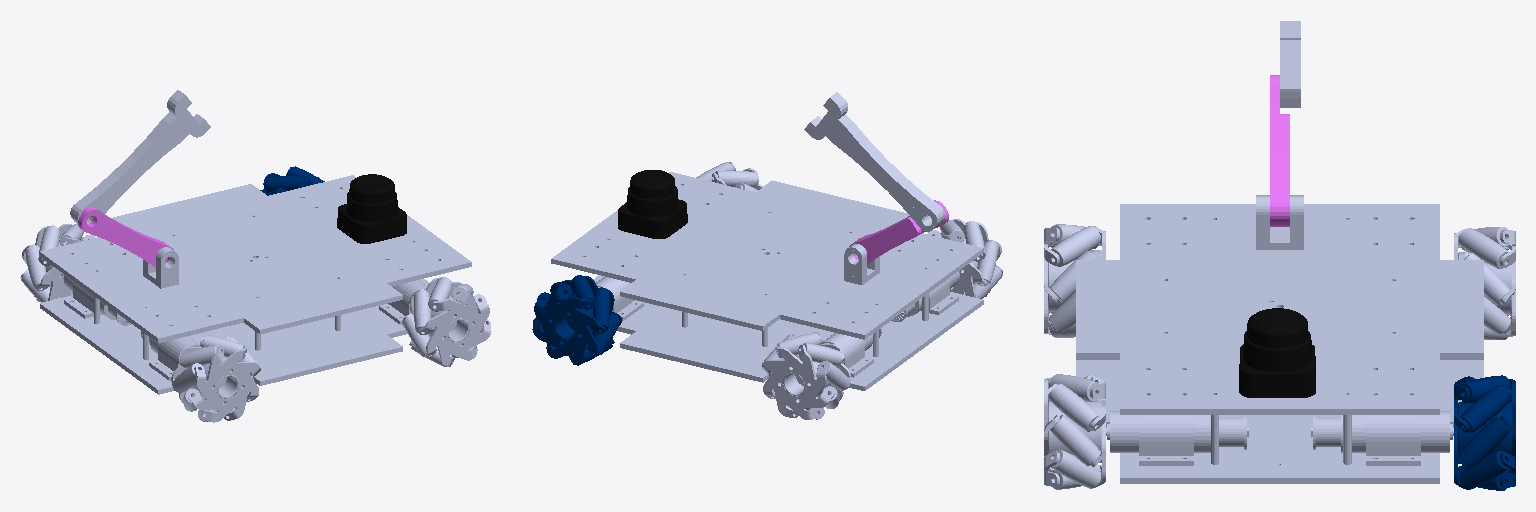
The robot description file, URDF, robot "meca":
<?xml version="1.0" ?>
<!-- This URDF was automatically created by SolidWorks to URDF Exporter! Originally created by [author] ([email redacted]) 
     Commit Version: 1.6.0-4-g7f85cfe  Build Version: 1.6.7995.38578
     For more information, please see http://wiki.ros.org/sw_urdf_exporter -->
<robot name="meca">
  <link name="base_link">
    <inertial>
      <origin xyz="-0.0012337 1.0003E-06 0.027856" rpy="0 0 0" />
      <mass value="1.2237" />
      <inertia ixx="0.0053566" ixy="3.6093E-10" ixz="6.2608E-22" iyy="0.0084415" iyz="6.2819E-22" izz="0.013752" />
    </inertial>
    <visual>
      <origin xyz="0 0 0" rpy="0 0 0" />
      <geometry>
        <mesh filename="package://meca/meshes/base_link.STL" />
      </geometry>
      <material name="">
        <color rgba="0.79216 0.81961 0.93333 1" />
      </material>
    </visual>
    <collision>
      <origin xyz="0 0 0" rpy="0 0 0" />
      <geometry>
        <mesh filename="package://meca/meshes/base_link.STL" />
      </geometry>
    </collision>
  </link>
  <link name="link_left_forward">
    <inertial>
      <origin xyz="1.0435E-06 4.8329E-05 -0.0023476" rpy="0 0 0" />
      <mass value="0.13253" />
      <inertia ixx="2.8353E-05" ixy="-4.1241E-08" ixz="-4.6777E-08" iyy="2.8355E-05" iyz="4.779E-08" izz="3.4561E-05" />
    </inertial>
    <visual>
      <origin xyz="0 0 0" rpy="0 0 0" />
      <geometry>
        <mesh filename="package://meca/meshes/link_left_forward.STL" />
      </geometry>
      <material name="">
        <color rgba="0 0.21176 0.46667 1" />
      </material>
    </visual>
    <collision>
      <origin xyz="0 0 0" rpy="0 0 0" />
      <geometry>
        <mesh filename="package://meca/meshes/link_left_forward.STL" />
      </geometry>
    </collision>
  </link>
  <joint name="joint_left_forward" type="continuous">
    <origin xyz="0.12762 0.14948 0.01867" rpy="-1.5708 0 0" />
    <parent link="base_link" />
    <child link="link_left_forward" />
    <axis xyz="0 0 1" />
  </joint>
  <link name="encoder_left_forward_link">
    <inertial>
      <origin xyz="0 -3.4694E-18 0.0012195" rpy="0 0 0" />
      <mass value="0.0011046" />
      <inertia ixx="4.6057E-08" ixy="-9.381E-13" ixz="-1.7536E-24" iyy="4.6073E-08" iyz="2.5318E-25" izz="9.0881E-08" />
    </inertial>
    <visual>
      <origin xyz="0 0 0" rpy="0 0 0" />
      <geometry>
        <mesh filename="package://meca/meshes/encoder_left_forward_link.STL" />
      </geometry>
      <material name="">
        <color rgba="0.79216 0.81961 0.93333 1" />
      </material>
    </visual>
    <collision>
      <origin xyz="0 0 0" rpy="0 0 0" />
      <geometry>
        <mesh filename="package://meca/meshes/encoder_left_forward_link.STL" />
      </geometry>
    </collision>
  </link>
  <joint name="encoder_left_forward_joint" type="fixed">
    <origin xyz="0.000879827951730972 -0.00142956283466865 -0.12605" rpy="0 0 0" />
    <parent link="link_left_forward" />
    <child link="encoder_left_forward_link" />
    <axis xyz="0 0 0" />
  </joint>
  <link name="link_left_back">
    <inertial>
      <origin xyz="4.3774E-05 2.0509E-05 -0.0023476" rpy="0 0 0" />
      <mass value="0.13253" />
      <inertia ixx="2.8322E-05" ixy="2.5704E-08" ixz="2.2072E-08" iyy="2.8387E-05" iyz="6.3125E-08" izz="3.4561E-05" />
    </inertial>
    <visual>
      <origin xyz="0 0 0" rpy="0 0 0" />
      <geometry>
        <mesh filename="package://meca/meshes/link_left_back.STL" />
      </geometry>
      <material name="">
        <color rgba="0.79216 0.81961 0.93333 1" />
      </material>
    </visual>
    <collision>
      <origin xyz="0 0 0" rpy="0 0 0" />
      <geometry>
        <mesh filename="package://meca/meshes/link_left_back.STL" />
      </geometry>
    </collision>
  </link>
  <joint name="joint_left_back" type="continuous">
    <origin xyz="-0.12797 0.14948 0.018587" rpy="-1.5708 0 0" />
    <parent link="base_link" />
    <child link="link_left_back" />
    <axis xyz="0 0 1" />
  </joint>
  <link name="encoder_left_back_link">
    <inertial>
      <origin xyz="0 6.93889390390723E-18 0.00121951468354635" rpy="0 0 0" />
      <mass value="0.00110455234746961" />
      <inertia ixx="4.60573417540729E-08" ixy="9.38099743416329E-13" ixz="-1.86169766614336E-24" iyy="4.60729731271229E-08" iyz="-9.59486697287092E-25" izz="9.08807746771234E-08" />
    </inertial>
    <visual>
      <origin xyz="0 0 0" rpy="0 0 0" />
      <geometry>
        <mesh filename="package://meca/meshes/encoder_left_back_link.STL" />
      </geometry>
      <material name="">
        <color rgba="0.792156862745098 0.819607843137255 0.933333333333333 1" />
      </material>
    </visual>
    <collision>
      <origin xyz="0 0 0" rpy="0 0 0" />
      <geometry>
        <mesh filename="package://meca/meshes/encoder_left_back_link.STL" />
      </geometry>
    </collision>
  </link>
  <joint name="encoder_left_back_joint" type="fixed">
    <origin xyz="-0.000744846301707347 -0.00151335080252251 -0.12605" rpy="0 0 0" />
    <parent link="link_left_back" />
    <child link="encoder_left_back_link" />
    <axis xyz="0 0 0" />
  </joint>
  <link name="link_right_back">
    <inertial>
      <origin xyz="1.0435E-06 -4.8329E-05 0.0023476" rpy="0 0 0" />
      <mass value="0.13253" />
      <inertia ixx="2.8353E-05" ixy="4.1241E-08" ixz="4.6777E-08" iyy="2.8355E-05" iyz="4.779E-08" izz="3.4561E-05" />
    </inertial>
    <visual>
      <origin xyz="0 0 0" rpy="0 0 0" />
      <geometry>
        <mesh filename="package://meca/meshes/link_right_back.STL" />
      </geometry>
      <material name="">
        <color rgba="0.79216 0.81961 0.93333 1" />
      </material>
    </visual>
    <collision>
      <origin xyz="0 0 0" rpy="0 0 0" />
      <geometry>
        <mesh filename="package://meca/meshes/link_right_back.STL" />
      </geometry>
    </collision>
  </link>
  <joint name="joint_right_back" type="continuous">
    <origin xyz="-0.12884 -0.14948 0.019988" rpy="-1.5708 0 0" />
    <parent link="base_link" />
    <child link="link_right_back" />
    <axis xyz="0 0 1" />
  </joint>
  <link name="encoder_right_back_link">
    <inertial>
      <origin xyz="0 0 -0.0012195" rpy="0 0 0" />
      <mass value="0.0011046" />
      <inertia ixx="4.6057E-08" ixy="9.381E-13" ixz="-1.6658E-23" iyy="4.6073E-08" iyz="2.8857E-25" izz="9.0881E-08" />
    </inertial>
    <visual>
      <origin xyz="0 0 0" rpy="0 0 0" />
      <geometry>
        <mesh filename="package://meca/meshes/encoder_right_back_link.STL" />
      </geometry>
      <material name="">
        <color rgba="0.79216 0.81961 0.93333 1" />
      </material>
    </visual>
    <collision>
      <origin xyz="0 0 0" rpy="0 0 0" />
      <geometry>
        <mesh filename="package://meca/meshes/encoder_right_back_link.STL" />
      </geometry>
    </collision>
  </link>
  <joint name="encoder_right_back_joint" type="fixed">
    <origin xyz="0.000125240091175149 -0.00011164957998884 0.12605" rpy="0 0 0" />
    <parent link="link_right_back" />
    <child link="encoder_right_back_link" />
    <axis xyz="0 0 0" />
  </joint>
  <link name="link_right_forward">
    <inertial>
      <origin xyz="4.3774E-05 -2.0509E-05 0.0023476" rpy="0 0 0" />
      <mass value="0.13253" />
      <inertia ixx="2.8322E-05" ixy="-2.5704E-08" ixz="-2.2072E-08" iyy="2.8387E-05" iyz="6.3125E-08" izz="3.4561E-05" />
    </inertial>
    <visual>
      <origin xyz="0 0 0" rpy="0 0 0" />
      <geometry>
        <mesh filename="package://meca/meshes/link_right_forward.STL" />
      </geometry>
      <material name="">
        <color rgba="0.79216 0.81961 0.93333 1" />
      </material>
    </visual>
    <collision>
      <origin xyz="0 0 0" rpy="0 0 0" />
      <geometry>
        <mesh filename="package://meca/meshes/link_right_forward.STL" />
      </geometry>
    </collision>
  </link>
  <joint name="joint_right_forward" type="continuous">
    <origin xyz="0.12849 -0.14948 0.020072" rpy="-1.5708 0 0" />
    <parent link="base_link" />
    <child link="link_right_forward" />
    <axis xyz="0 0 1" />
  </joint>
  <link name="encoder_right_forward_link">
    <inertial>
      <origin xyz="0 6.9389E-18 3.0485E-05" rpy="0 0 0" />
      <mass value="0.0011046" />
      <inertia ixx="4.6057E-08" ixy="-9.381E-13" ixz="1.0944E-23" iyy="4.6073E-08" iyz="1.1236E-24" izz="9.0881E-08" />
    </inertial>
    <visual>
      <origin xyz="0 0 0" rpy="0 0 0" />
      <geometry>
        <mesh filename="package://meca/meshes/encoder_right_forward_link.STL" />
      </geometry>
      <material name="">
        <color rgba="0.79216 0.81961 0.93333 1" />
      </material>
    </visual>
    <collision>
      <origin xyz="0 0 0" rpy="0 0 0" />
      <geometry>
        <mesh filename="package://meca/meshes/encoder_right_forward_link.STL" />
      </geometry>
    </collision>
  </link>
  <joint name="encoder_right_forward_joint" type="fixed">
    <origin xyz="0 -2.78616121349856E-05 0.1248" rpy="0 0 0" />
    <parent link="link_right_forward" />
    <child link="encoder_right_forward_link" />
    <axis xyz="0 0 0" />
  </joint>
  <link name="link_lidar">
    <inertial>
      <origin xyz="-0.00020012 4.1715E-07 0.032146" rpy="0 0 0" />
      <mass value="0.0094944" />
      <inertia ixx="3.8153E-06" ixy="2.9012E-11" ixz="-8.0883E-10" iyy="3.8141E-06" iyz="-2.0759E-11" izz="4.9345E-06" />
    </inertial>
    <visual>
      <origin xyz="0 0 0" rpy="0 0 0" />
      <geometry>
        <mesh filename="package://meca/meshes/link_lidar.STL" />
      </geometry>
      <material name="">
        <color rgba="0.082353 0.082353 0.082353 1" />
      </material>
    </visual>
    <collision>
      <origin xyz="0 0 0" rpy="0 0 0" />
      <geometry>
        <mesh filename="package://meca/meshes/link_lidar.STL" />
      </geometry>
    </collision>
  </link>
  <joint name="joint_lidar" type="fixed">
    <origin xyz="0.12893 -0.0016914 0.0598" rpy="0 0 0" />
    <parent link="base_link" />
    <child link="link_lidar" />
    <axis xyz="0 0 0" />
  </joint>
  <link name="link_imu">
    <inertial>
      <origin xyz="-7.5244E-05 -0.0020556 -7.7593E-06" rpy="0 0 0" />
      <mass value="0.00054834" />
      <inertia ixx="8.6846E-09" ixy="-6.071E-11" ixz="4.4622E-11" iyy="1.9443E-08" iyz="-8.0543E-11" izz="2.6482E-08" />
    </inertial>
    <visual>
      <origin xyz="0 0 0" rpy="0 0 0" />
      <geometry>
        <mesh filename="package://meca/meshes/link_imu.STL" />
      </geometry>
      <material name="">
        <color rgba="0.79216 0.81961 0.93333 1" />
      </material>
    </visual>
    <collision>
      <origin xyz="0 0 0" rpy="0 0 0" />
      <geometry>
        <mesh filename="package://meca/meshes/link_imu.STL" />
      </geometry>
    </collision>
  </link>
  <joint name="joint_imu" type="fixed">
    <origin xyz="-8.8046E-05 -0.011773 0.02" rpy="0 0 0" />
    <parent link="base_link" />
    <child link="link_imu" />
    <axis xyz="0 0 0" />
  </joint>
  <link name="link_arm1">
    <inertial>
      <origin xyz="0 0 0" rpy="0 0 0" />
      <mass value="0" />
      <inertia ixx="0" ixy="0" ixz="0" iyy="0" iyz="0" izz="0" />
    </inertial>
    <visual>
      <origin xyz="0 0 0" rpy="0 0 0" />
      <geometry>
        <mesh filename="package://meca/meshes/link_arm1.STL" />
      </geometry>
      <material name="">
        <color rgba="0.93333 0.5 1 1" />
      </material>
    </visual>
    <collision>
      <origin xyz="0 0 0" rpy="0 0 0" />
      <geometry>
        <mesh filename="package://meca/meshes/link_arm1.STL" />
      </geometry>
    </collision>
  </link>
  <joint name="joint_arm1" type="continuous">
    <origin xyz="-0.10596 0.0075 0.086" rpy="-1.5708 0 0" />
    <parent link="base_link" />
    <child link="link_arm1" />
    <axis xyz="0 0 1" />
    <limit lower="-1.5707" upper="1.5707" effort="0" velocity="0" />
  </joint>
  <link name="link_arm2">
    <inertial>
      <origin xyz="0.066382 -0.046095 0.0075" rpy="0 0 0" />
      <mass value="0.050806" />
      <inertia ixx="4.2368E-05" ixy="5.3833E-05" ixz="-8.2018E-20" iyy="8.2512E-05" iyz="5.3173E-20" izz="0.00012297" />
    </inertial>
    <visual>
      <origin xyz="0 0 0" rpy="0 0 0" />
      <geometry>
        <mesh filename="package://meca/meshes/link_arm2.STL" />
      </geometry>
      <material name="">
        <color rgba="0.79216 0.81961 0.93333 1" />
      </material>
    </visual>
    <collision>
      <origin xyz="0 0 0" rpy="0 0 0" />
      <geometry>
        <mesh filename="package://meca/meshes/link_arm2.STL" />
      </geometry>
    </collision>
  </link>
  <joint name="joint_arm2" type="continuous">
    <origin xyz="-0.081046 -0.05858 -0.0075" rpy="0 0 0" />
    <parent link="link_arm1" />
    <child link="link_arm2" />
    <axis xyz="0 0 1" />
    <limit lower="-1.5707" upper="1.5707" effort="0" velocity="0" />
  </joint>
</robot>

--- Render facts (derived) ---
The picture shows the robot from 3 angles, left to right: view 1: azimuth 30°, elevation 25°; view 2: azimuth 150°, elevation 25°; view 3: azimuth 270°, elevation 25°; orthographic projection.
Model meca with 13 links and 12 joints (6 continuous, 6 fixed), rooted at base_link, posed all joints at 0.
Visible links, largest first — view 1: base_link, link_right_back, link_right_forward, link_arm2, link_lidar, link_left_back, link_arm1, link_left_forward; view 2: base_link, link_left_forward, link_left_back, link_arm2, link_lidar, link_right_back, link_arm1, link_right_forward; view 3: base_link, link_right_forward, link_left_forward, link_lidar, link_right_back, link_left_back, link_arm1, link_arm2.
Boxes of the visible links, x1=… form: base_link: x1=40, y1=175, x2=471, y2=394; link_right_back: x1=171, y1=334, x2=260, y2=422; link_right_forward: x1=402, y1=277, x2=491, y2=366; link_arm2: x1=70, y1=90, x2=210, y2=223; link_lidar: x1=337, y1=174, x2=406, y2=243; link_left_back: x1=20, y1=224, x2=95, y2=302; link_arm1: x1=78, y1=207, x2=173, y2=267; link_left_forward: x1=260, y1=166, x2=324, y2=195; base_link: x1=551, y1=172, x2=983, y2=390; link_left_forward: x1=532, y1=275, x2=621, y2=365; link_left_back: x1=761, y1=332, x2=850, y2=419; link_arm2: x1=804, y1=92, x2=944, y2=231; link_lidar: x1=618, y1=170, x2=687, y2=238; link_right_back: x1=928, y1=219, x2=1002, y2=298; link_arm1: x1=849, y1=200, x2=948, y2=264; link_right_forward: x1=696, y1=162, x2=763, y2=191; base_link: x1=1076, y1=195, x2=1483, y2=483; link_right_forward: x1=1044, y1=374, x2=1105, y2=489; link_left_forward: x1=1454, y1=375, x2=1515, y2=490; link_lidar: x1=1239, y1=308, x2=1315, y2=397; link_right_back: x1=1044, y1=224, x2=1105, y2=337; link_left_back: x1=1454, y1=227, x2=1515, y2=339; link_arm1: x1=1270, y1=75, x2=1289, y2=226; link_arm2: x1=1280, y1=21, x2=1300, y2=107.
Bounding box of the posed robot: 0.3735 × 0.3396 × 0.2737 m (x, y, z).
13 mesh visuals loaded from 13 distinct referenced files (13 binary STL).
